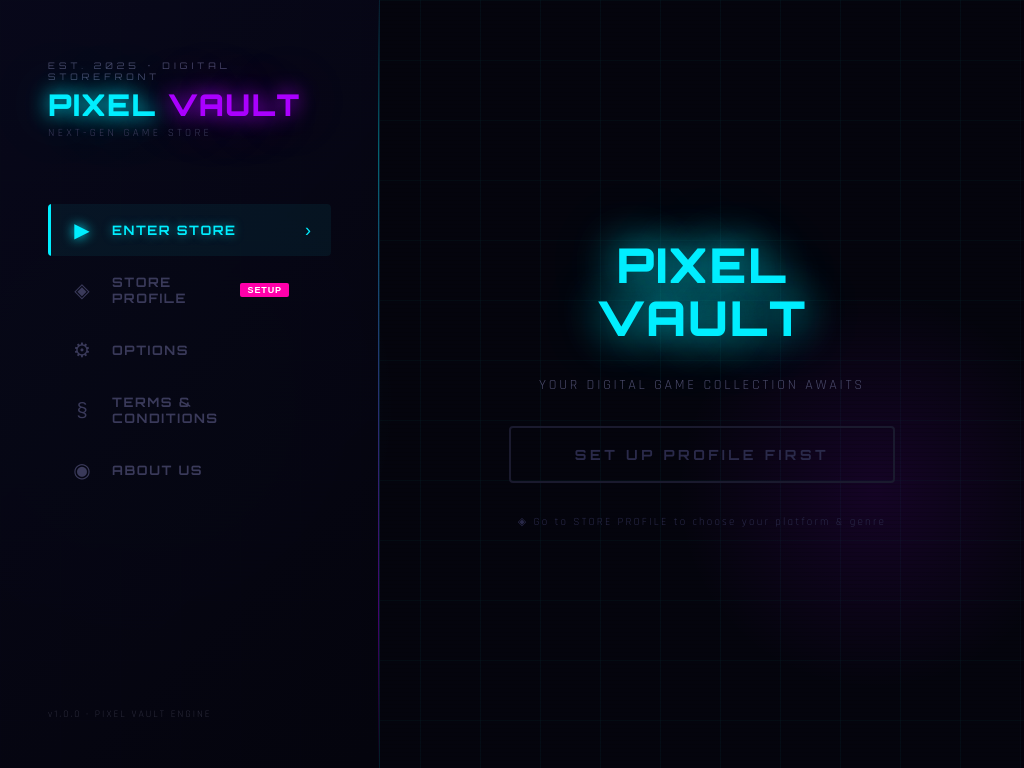
Test: SelectionScreen › switching to Store Profile tab shows the profile card
Click the button "◈ Store Profile SETUP": (190, 290) [48,260,331,320]
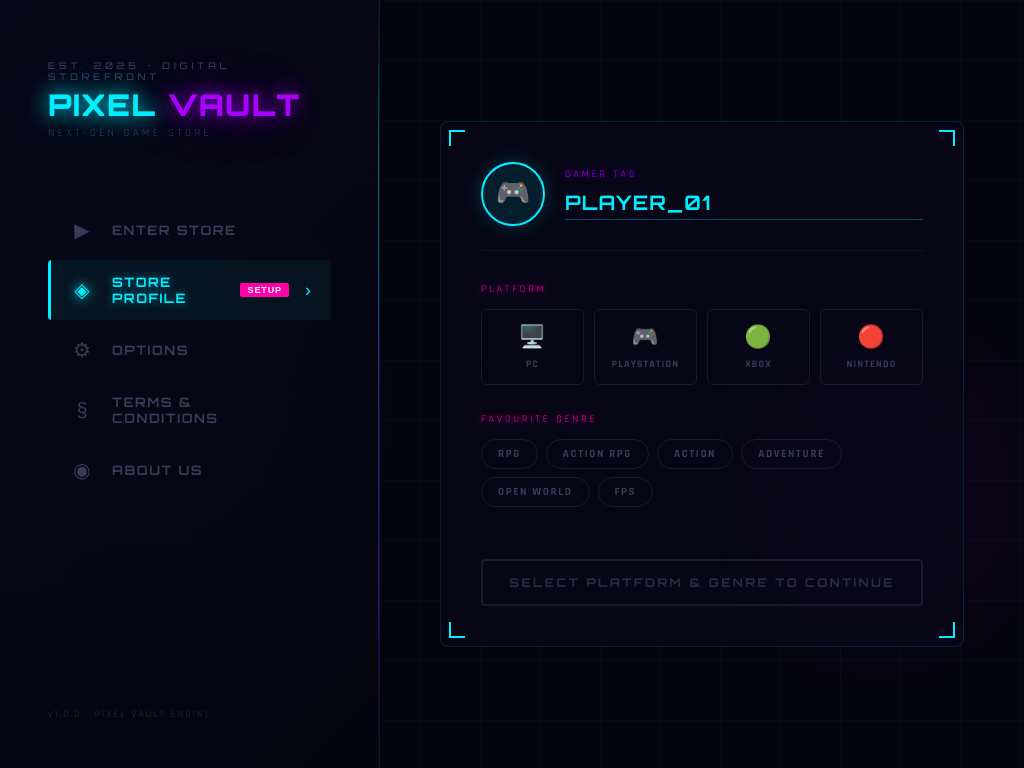
Now the element with class "sel-profile-card" is shown, box [440,121,964,647]
